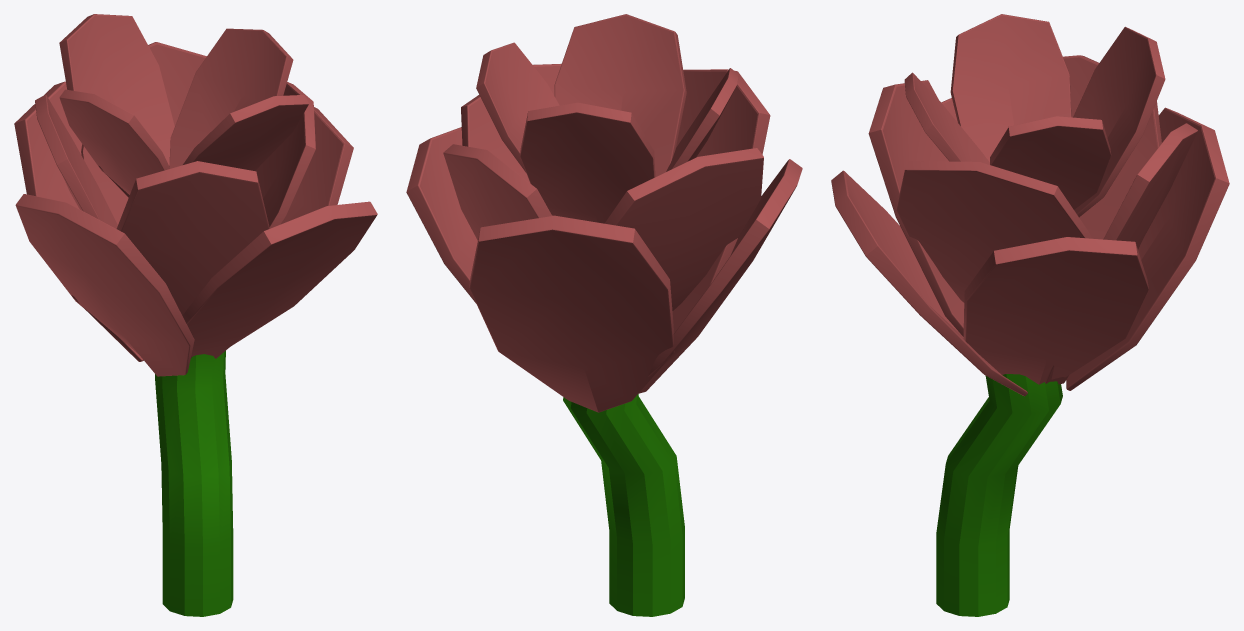
The model's file is Tulip_2.fbx.
The picture shows the model from 3 angles, left to right: view 1: azimuth 30°, elevation 25°; view 2: azimuth 150°, elevation 25°; view 3: azimuth 270°, elevation 25°; orthographic projection. The views are drawn at different scales.
Parts seen in each view (by area): view 1: Tulip2_Steam_GEO3; view 2: Tulip2_Steam_GEO3; view 3: Tulip2_Steam_GEO3.
Boxes of the visible parts, <box> form: Tulip2_Steam_GEO3: <box>14,14,377,616</box>; Tulip2_Steam_GEO3: <box>406,14,802,616</box>; Tulip2_Steam_GEO3: <box>831,14,1229,616</box>.
Size of the model in its own units: 24.82 by 39.98 by 26.08.
